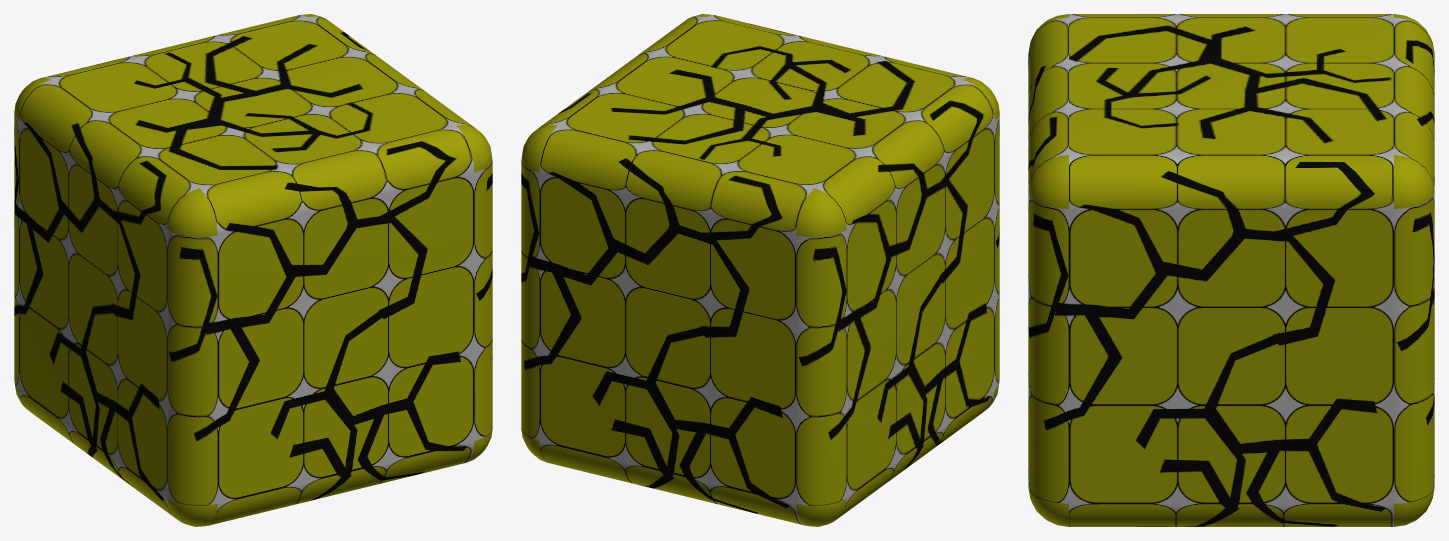
The model's file is New2_Ground_Break.fbx.
3 renders of one model, left to right at view 1: azimuth 30°, elevation 25°; view 2: azimuth 150°, elevation 25°; view 3: azimuth 270°, elevation 25°, orthographic. The views are drawn at different scales.
Visible parts, largest first — view 1: pCube18; view 2: pCube18; view 3: pCube18.
Part boxes in pixels (x1=…): pCube18: x1=14, y1=14, x2=492, y2=526; pCube18: x1=521, y1=14, x2=999, y2=526; pCube18: x1=1028, y1=14, x2=1434, y2=526.
Bounding box in the file's own units: 100 × 100 × 100.
